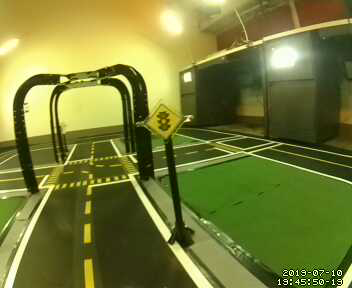Traffic light sign: (143, 99, 185, 140)
